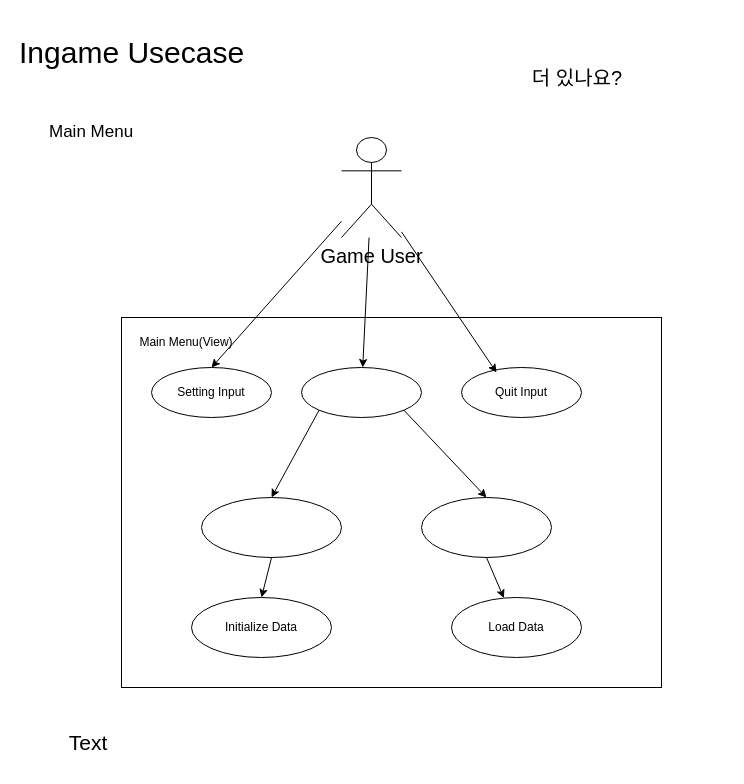
This 744x784 diagram has some shape labels left out. The shapes that lost their labels are listed below. From the top down, each one's box as (x1, y1, x2, y2) in pixels, then its label:
(300, 366, 422, 418): Play Input
(200, 496, 342, 558): New Game
(420, 496, 552, 558): Select SaveSlot
